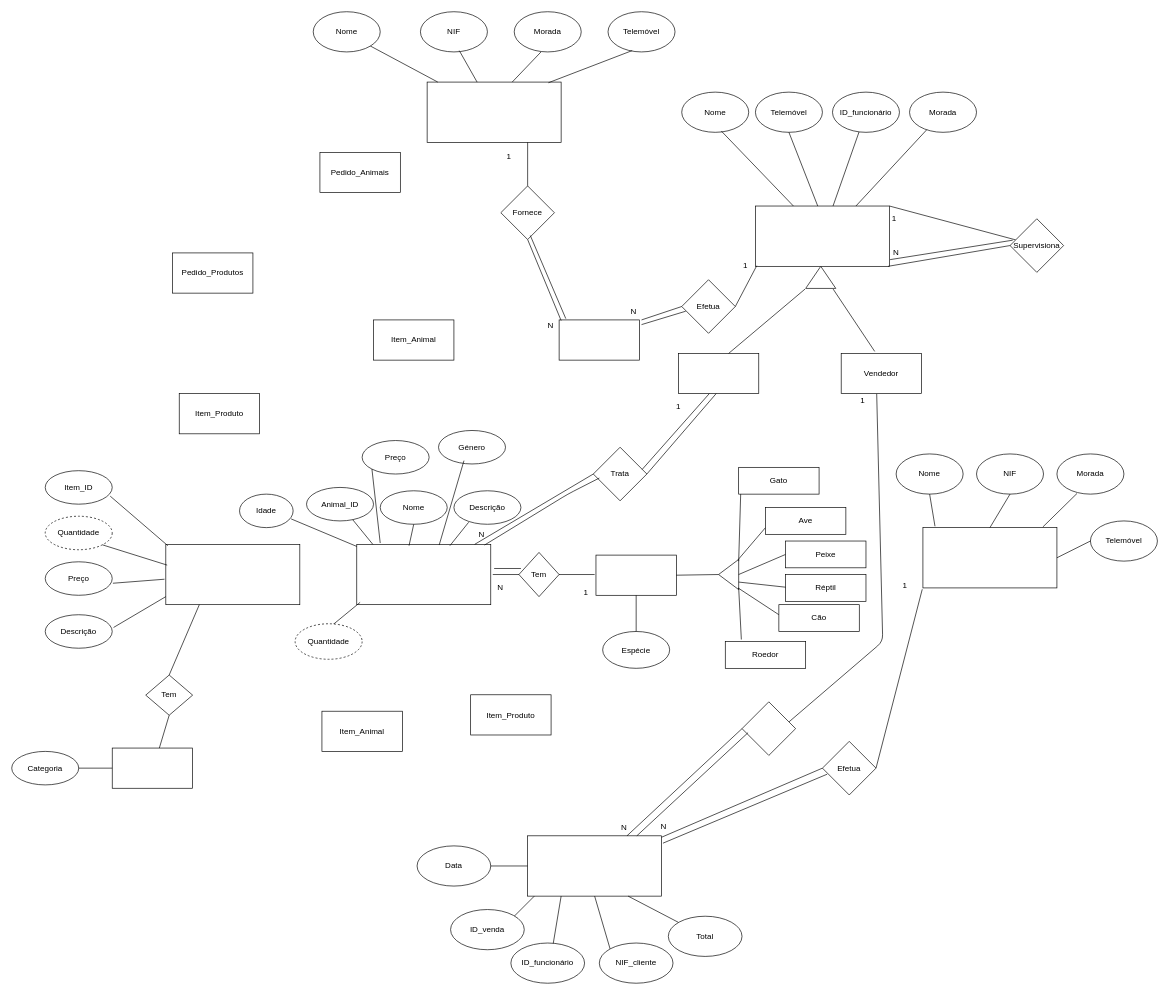
The diagram is 1169 pixels wide and 995 high, and some of its shapes have lost their labels. The centre of each missing label's shape, as x and y in pixels:
Animal: the point at 423,574
Cliente: the point at 989,557
Compra: the point at 594,865
Encomenda: the point at 599,339
Fornecedor: the point at 493,111
Funcionário: the point at 822,235
Produto: the point at 232,574
Responsável: the point at 768,728
Tipo_Animal: the point at 635,574
Tipo_Produto: the point at 152,767
Tratador: the point at 718,373
